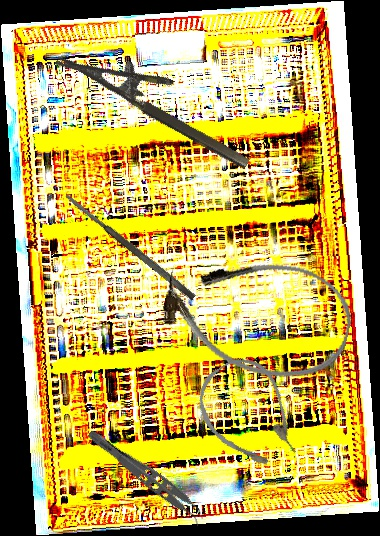Cannula: (153, 239, 361, 392), (184, 346, 314, 485)
Needle Holder: (55, 25, 265, 172)
Spatula Surgical: (63, 191, 197, 302)
Tissue Forceps: (79, 427, 211, 529)
